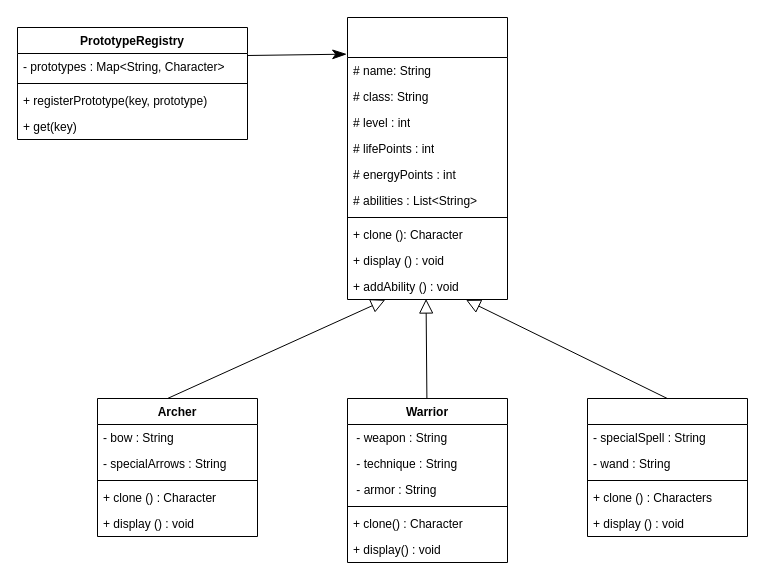
This 765x583 diagram has some shape labels left out. The shapes that lost their labels are listed below. From the top down, each one's box as (x1, y1, x2, y2) in pixels, then its label:
(346, 16, 508, 300): <<abstract>> Character
(586, 398, 748, 536): Wizard
